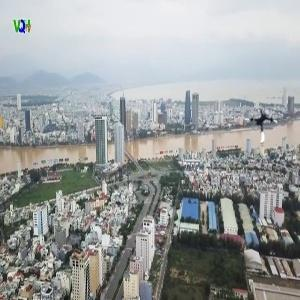drone: (243, 108, 280, 145)
